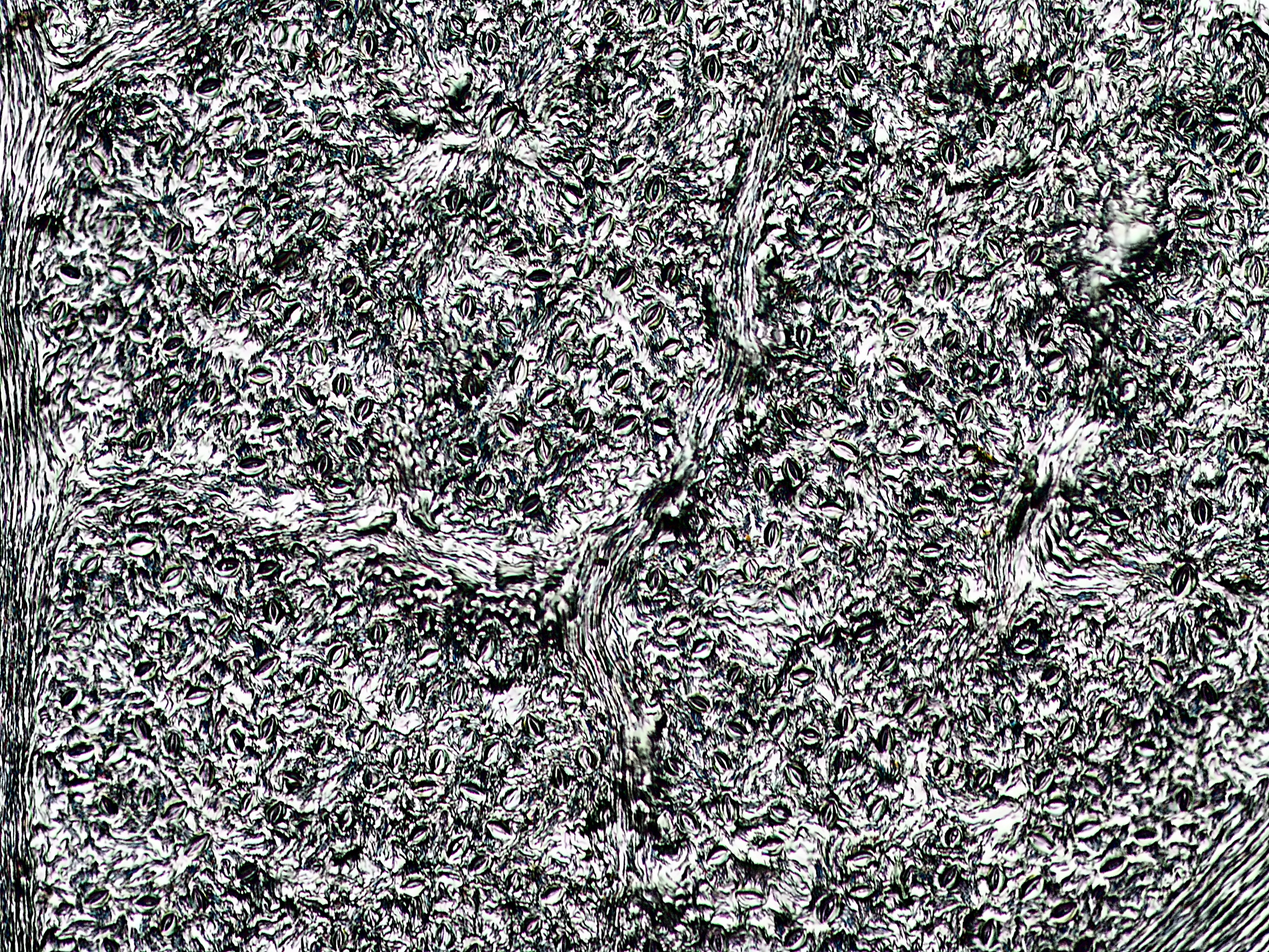stomata: (1172, 562, 1198, 599), (718, 791, 743, 827), (1226, 426, 1250, 462), (977, 916, 1000, 952), (1051, 899, 1081, 926), (953, 396, 978, 428), (1166, 425, 1189, 459), (493, 108, 518, 139), (818, 894, 841, 927), (1149, 657, 1175, 686), (498, 411, 523, 441), (930, 271, 955, 301), (831, 438, 861, 463), (1029, 830, 1056, 857), (589, 212, 615, 240), (640, 303, 666, 331), (460, 372, 485, 401), (937, 139, 961, 169), (751, 464, 775, 494), (818, 798, 839, 832), (394, 683, 417, 714), (736, 888, 767, 911), (359, 722, 381, 754), (235, 456, 270, 476), (1246, 257, 1267, 290), (125, 535, 158, 556), (1099, 854, 1129, 877), (836, 705, 858, 736), (1053, 118, 1073, 152), (180, 152, 203, 181), (212, 290, 235, 319), (702, 53, 722, 86), (645, 176, 667, 206), (162, 221, 183, 252), (818, 500, 849, 521), (756, 835, 787, 856), (1191, 496, 1212, 527), (849, 877, 876, 901), (252, 657, 280, 680), (866, 795, 889, 823), (1023, 733, 1045, 762), (588, 332, 609, 362), (647, 565, 668, 595), (508, 355, 527, 388), (1223, 296, 1248, 321), (902, 695, 927, 720), (610, 156, 636, 180), (608, 370, 634, 394), (406, 824, 432, 848), (677, 808, 701, 834), (983, 236, 1006, 263), (539, 884, 566, 907), (1055, 716, 1078, 743), (397, 302, 417, 333), (294, 381, 316, 409), (838, 61, 860, 89), (699, 570, 721, 598), (817, 621, 839, 649), (937, 863, 959, 891), (232, 208, 261, 229), (213, 557, 242, 578), (410, 779, 439, 800), (847, 851, 879, 870), (538, 222, 558, 252), (1079, 130, 1104, 154), (850, 211, 875, 235), (985, 180, 1009, 205), (1024, 192, 1044, 222), (1207, 251, 1230, 277), (480, 740, 503, 766), (83, 888, 110, 910), (784, 761, 806, 788), (1200, 679, 1222, 706), (1246, 77, 1265, 108), (231, 35, 252, 63), (321, 48, 342, 76), (523, 712, 544, 740), (524, 268, 553, 288), (1062, 186, 1082, 215), (184, 687, 213, 707), (1048, 66, 1072, 90), (186, 833, 210, 857), (776, 586, 800, 610), (1136, 421, 1154, 453), (160, 566, 185, 589), (163, 800, 188, 823), (943, 6, 965, 32), (1243, 152, 1265, 178), (818, 236, 844, 258), (445, 835, 467, 861), (357, 29, 376, 59), (574, 253, 593, 283), (1194, 306, 1213, 336), (888, 320, 918, 339), (1171, 366, 1190, 396), (1234, 375, 1253, 405), (195, 759, 214, 789), (255, 558, 282, 579), (216, 116, 244, 136), (480, 30, 500, 58), (667, 0, 687, 28), (625, 43, 645, 71), (399, 876, 427, 896), (969, 483, 997, 503), (666, 617, 694, 637), (1101, 506, 1129, 526), (783, 928, 807, 951), (1019, 876, 1043, 899), (222, 411, 241, 440), (79, 553, 101, 578), (487, 818, 512, 840), (476, 638, 497, 664), (781, 458, 802, 484), (767, 803, 793, 824), (738, 28, 758, 55), (536, 386, 563, 406), (574, 408, 594, 435), (611, 416, 638, 436), (578, 746, 598, 773), (459, 781, 486, 801), (987, 865, 1005, 895), (247, 366, 275, 385), (258, 714, 277, 742), (433, 920, 452, 948), (762, 520, 781, 548), (881, 282, 904, 305), (332, 595, 355, 618), (520, 915, 543, 938), (877, 395, 900, 418), (339, 276, 361, 300), (469, 854, 493, 876), (806, 398, 828, 422), (519, 17, 540, 42), (330, 372, 351, 397), (613, 267, 634, 292), (839, 175, 864, 196), (1176, 109, 1197, 134), (663, 260, 681, 289), (196, 78, 222, 98), (307, 341, 327, 367), (354, 396, 374, 422), (1216, 210, 1236, 236), (827, 298, 847, 324), (883, 356, 909, 376), (742, 558, 762, 584), (1104, 643, 1124, 669), (977, 115, 996, 142), (1140, 14, 1167, 33), (1181, 207, 1208, 226), (1118, 375, 1137, 402), (551, 765, 570, 792), (768, 708, 787, 735), (779, 401, 796, 431), (1132, 827, 1162, 844), (282, 123, 305, 145), (703, 16, 725, 39), (654, 97, 677, 119), (236, 862, 259, 884), (313, 733, 335, 756), (672, 553, 694, 576), (706, 929, 728, 952), (85, 151, 106, 175), (306, 211, 327, 235), (535, 437, 553, 465), (837, 366, 858, 390), (1024, 241, 1045, 265), (133, 894, 161, 912), (900, 432, 924, 453), (1129, 472, 1150, 496), (107, 264, 132, 284), (552, 351, 572, 376), (658, 337, 683, 357), (652, 415, 677, 435), (904, 240, 929, 260), (1034, 322, 1054, 347), (892, 605, 917, 625), (705, 845, 730, 865), (1176, 788, 1196, 813), (240, 150, 271, 166), (878, 724, 894, 755), (133, 661, 159, 680), (328, 643, 347, 669), (67, 744, 93, 763), (920, 540, 946, 559), (790, 666, 816, 685), (1100, 703, 1119, 729), (365, 228, 383, 255), (330, 925, 348, 952), (886, 41, 908, 63), (58, 263, 81, 284), (712, 751, 733, 774), (134, 102, 158, 122), (636, 3, 656, 27), (367, 620, 387, 644), (1014, 635, 1038, 655), (449, 678, 466, 706), (761, 671, 778, 699), (1041, 797, 1069, 814), (255, 288, 274, 313), (1219, 335, 1244, 354), (960, 359, 979, 384), (430, 749, 449, 774), (264, 801, 283, 826), (910, 507, 935, 526), (1164, 512, 1183, 537), (665, 50, 691, 68), (899, 182, 925, 200), (297, 664, 315, 690), (1074, 821, 1100, 839), (167, 270, 183, 299), (271, 248, 292, 270), (600, 8, 621, 30), (1212, 133, 1234, 154), (211, 616, 232, 638), (565, 28, 585, 51), (573, 152, 593, 175), (558, 321, 578, 344), (817, 125, 840, 145), (418, 647, 441, 667), (932, 754, 952, 777), (262, 99, 286, 118), (50, 302, 69, 326), (588, 82, 607, 106), (795, 325, 814, 349), (1035, 769, 1054, 793), (1040, 667, 1064, 686), (720, 527, 738, 552), (1204, 626, 1229, 644), (848, 110, 874, 127), (834, 749, 851, 775), (477, 476, 497, 498), (1106, 48, 1126, 70), (1174, 162, 1194, 184), (1046, 352, 1066, 374), (692, 639, 714, 659), (877, 655, 899, 675), (562, 183, 581, 206), (939, 330, 958, 353), (978, 331, 997, 354), (269, 20, 285, 47), (295, 28, 311, 55), (328, 480, 355, 496), (455, 444, 479, 462), (1214, 106, 1241, 122), (1134, 327, 1150, 354), (159, 912, 177, 936), (856, 625, 880, 643), (345, 332, 370, 349), (459, 294, 476, 319), (1064, 5, 1081, 30), (138, 787, 155, 812), (163, 335, 184, 355), (497, 318, 518, 338), (520, 495, 541, 515), (901, 73, 922, 93), (1121, 122, 1141, 143), (957, 445, 977, 466), (650, 381, 669, 403), (104, 744, 123, 766), (943, 826, 962, 848), (1237, 189, 1263, 205), (134, 714, 150, 740), (329, 689, 345, 715), (96, 103, 114, 126), (201, 381, 219, 404), (847, 151, 870, 169), (99, 794, 117, 817), (838, 542, 856, 565), (798, 726, 821, 744), (270, 192, 294, 209), (260, 415, 284, 432), (503, 785, 520, 809), (798, 546, 822, 563), (369, 91, 394, 107), (446, 188, 462, 213), (634, 226, 654, 246), (800, 153, 820, 173), (1097, 180, 1113, 205), (388, 747, 404, 772), (324, 0, 345, 19), (999, 693, 1018, 714), (916, 370, 934, 392), (161, 630, 179, 652), (687, 694, 709, 712), (972, 703, 989, 726), (934, 716, 949, 742), (345, 437, 364, 457), (319, 111, 340, 129), (287, 153, 305, 174), (136, 430, 154, 451), (96, 303, 111, 328), (190, 887, 205, 912), (312, 453, 329, 475), (906, 573, 928, 590), (925, 93, 948, 109), (987, 361, 1003, 384), (239, 793, 255, 816), (974, 768, 990, 791), (347, 145, 362, 169), (665, 755, 683, 775), (726, 722, 750, 737), (207, 247, 228, 264), (504, 239, 525, 256), (480, 192, 496, 214), (167, 732, 181, 757), (265, 599, 280, 622), (85, 712, 104, 730), (484, 220, 504, 237), (1032, 387, 1049, 407), (886, 5, 907, 21), (287, 305, 302, 327), (314, 420, 333, 437), (61, 689, 78, 708), (108, 419, 128, 435), (159, 135, 174, 156), (449, 15, 463, 36), (166, 373, 181, 392), (729, 665, 742, 685), (358, 299, 371, 314)
